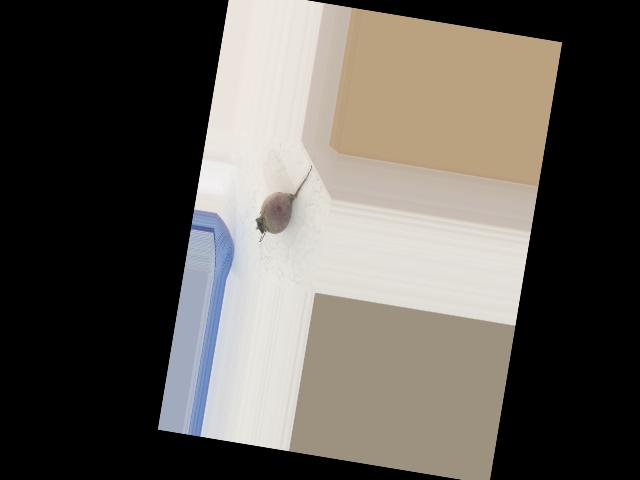beet: (252, 157, 312, 247)
